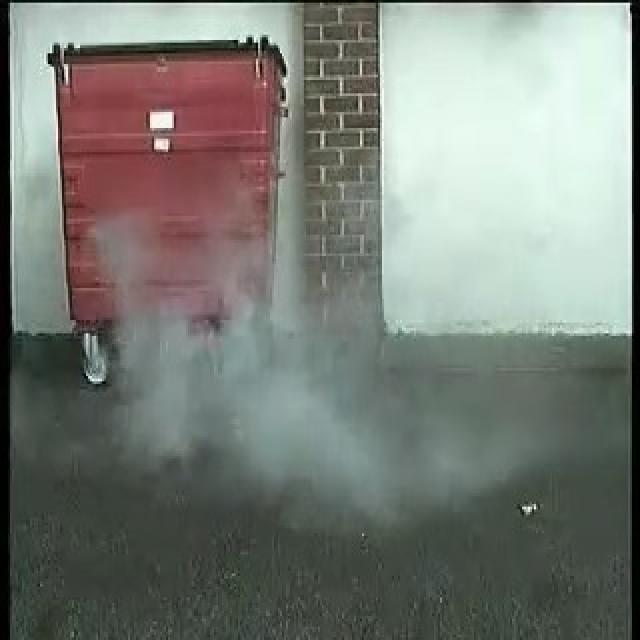smoke: (114, 253, 394, 485)
